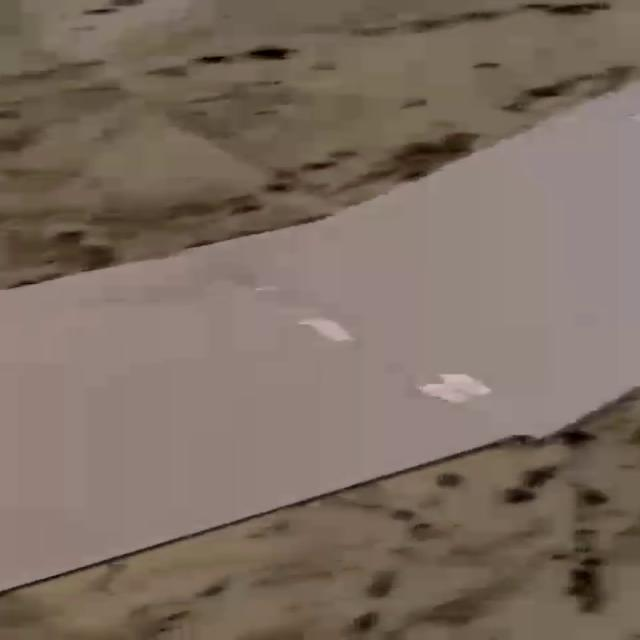road: (1, 85, 637, 589)
